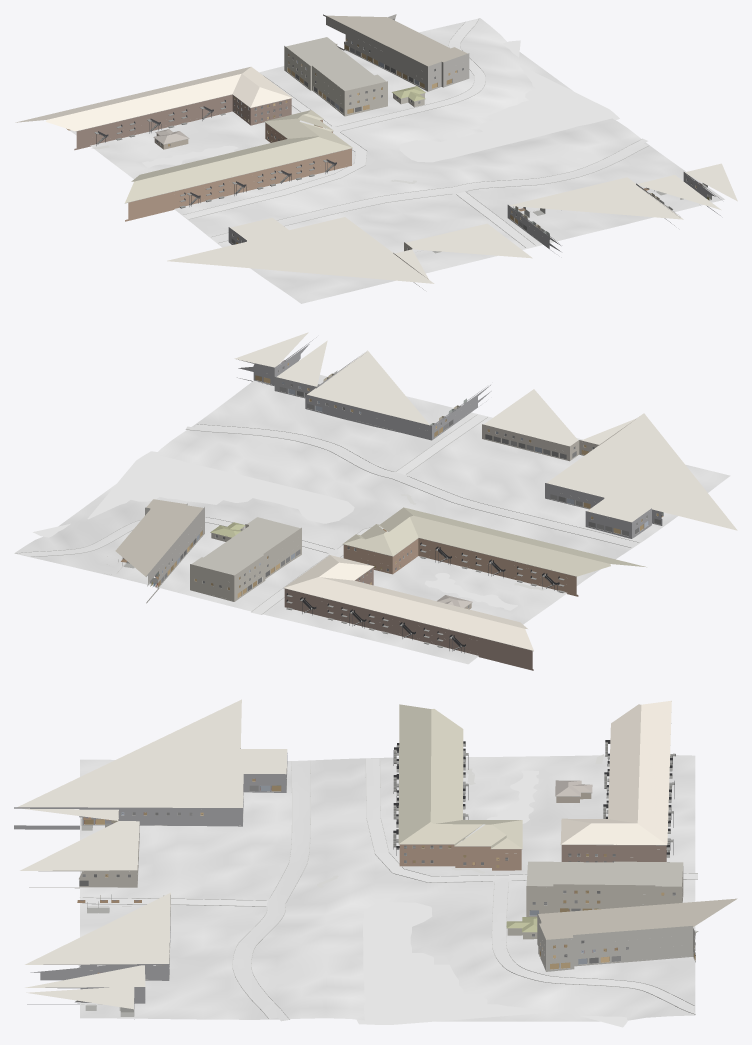
3 renders of one model, top to bottom at view 1: azimuth 30°, elevation 25°; view 2: azimuth 150°, elevation 25°; view 3: azimuth 270°, elevation 25°, orthographic. The views are drawn at different scales.
Parts seen in each view (by area): view 1: ground, roof_flat, roof, wall, water, wall_com, concrete, asphalt, curb, detail, glass_lit, glass (+1 smaller); view 2: ground, roof_flat, roof, wall_com, water, wall, asphalt, concrete, detail, curb, glass, glass_lit (+1 smaller); view 3: ground, roof_flat, roof, wall_com, water, concrete, asphalt, wall, curb, detail, glass_lit, room (+1 smaller).
Boxes of the visible parts, bbox=[...] form: ground: bbox=[69, 18, 724, 303]; roof_flat: bbox=[167, 15, 737, 283]; roof: bbox=[15, 66, 425, 202]; wall: bbox=[74, 94, 351, 221]; water: bbox=[142, 40, 619, 167]; wall_com: bbox=[228, 14, 720, 289]; concrete: bbox=[183, 18, 535, 247]; asphalt: bbox=[211, 139, 648, 242]; curb: bbox=[183, 18, 649, 247]; detail: bbox=[75, 19, 700, 251]; glass_lit: bbox=[168, 38, 696, 243]; glass: bbox=[156, 19, 692, 250]; ground: bbox=[14, 375, 730, 664]; roof_flat: bbox=[115, 332, 737, 576]; roof: bbox=[210, 507, 646, 650]; wall_com: bbox=[145, 337, 662, 603]; water: bbox=[33, 451, 517, 610]; wall: bbox=[284, 538, 578, 670]; asphalt: bbox=[186, 424, 638, 547]; concrete: bbox=[15, 415, 486, 614]; detail: bbox=[104, 365, 660, 653]; curb: bbox=[15, 414, 638, 614]; glass: bbox=[161, 366, 660, 607]; glass_lit: bbox=[158, 363, 658, 597]; ground: bbox=[80, 755, 695, 1021]; roof_flat: bbox=[17, 699, 737, 1009]; roof: bbox=[398, 700, 671, 932]; wall_com: bbox=[14, 748, 695, 1019]; water: bbox=[357, 770, 627, 1027]; concrete: bbox=[82, 758, 697, 1013]; asphalt: bbox=[232, 761, 310, 1021]; wall: bbox=[399, 793, 666, 870]; curb: bbox=[82, 758, 697, 1019]; detail: bbox=[79, 723, 695, 1016]; glass_lit: bbox=[84, 779, 695, 969]; room: bbox=[77, 778, 698, 1016].
Bounding box in the file's own units: 303 × 18.19 × 294.
